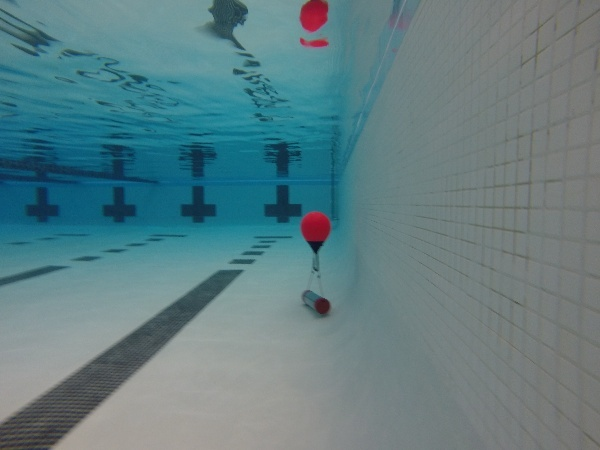buoy_red: (297, 211, 333, 253)
